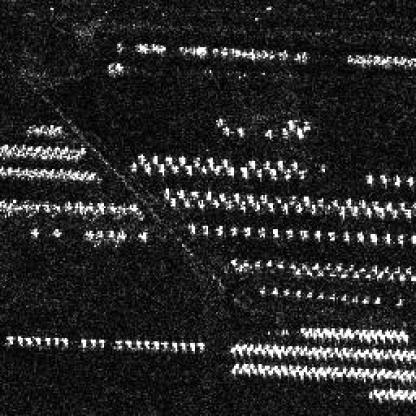airplane: (239, 198, 249, 212), (203, 187, 215, 198), (392, 174, 402, 187), (281, 200, 291, 211), (184, 197, 194, 208), (292, 127, 302, 138), (162, 186, 171, 198), (395, 232, 403, 245), (270, 226, 280, 236), (401, 208, 411, 218), (196, 198, 206, 208), (176, 188, 186, 198), (404, 176, 414, 186), (262, 159, 272, 169), (143, 162, 153, 172), (213, 115, 223, 125), (257, 224, 265, 236), (242, 224, 250, 236), (310, 201, 318, 213), (302, 193, 310, 205), (382, 231, 390, 242), (214, 223, 222, 234), (200, 223, 208, 234), (187, 221, 195, 232), (247, 192, 255, 203), (169, 195, 177, 206), (366, 174, 374, 185), (206, 156, 214, 167), (300, 119, 308, 130), (284, 117, 292, 128), (264, 127, 272, 138), (255, 198, 262, 210), (233, 190, 240, 202), (29, 228, 41, 235), (32, 336, 42, 344), (80, 336, 88, 346), (143, 338, 151, 348), (161, 340, 171, 348), (229, 258, 239, 266), (356, 229, 364, 239), (343, 229, 351, 239), (326, 229, 334, 239), (229, 224, 237, 234), (370, 200, 378, 210), (296, 202, 304, 212), (290, 193, 298, 203), (266, 200, 274, 210), (224, 198, 232, 208), (218, 190, 226, 200), (247, 160, 257, 168), (239, 166, 247, 176), (226, 166, 236, 174), (211, 166, 221, 174), (184, 164, 192, 174), (177, 154, 185, 164), (156, 164, 166, 172), (221, 124, 229, 134), (115, 229, 125, 237), (136, 229, 146, 237), (44, 335, 52, 344), (52, 335, 60, 344), (188, 342, 197, 350), (368, 231, 376, 240), (260, 193, 268, 202), (268, 167, 276, 176), (255, 167, 263, 176), (52, 228, 60, 237), (24, 336, 31, 346), (89, 336, 96, 346), (172, 340, 179, 350), (372, 297, 382, 304), (297, 228, 307, 235), (385, 202, 392, 212), (297, 169, 304, 179), (169, 164, 179, 171), (151, 154, 158, 164), (236, 127, 242, 138), (5, 335, 13, 343), (96, 338, 104, 346), (125, 338, 133, 346), (196, 340, 204, 348), (258, 286, 266, 294), (270, 286, 278, 294), (281, 288, 289, 296), (351, 294, 359, 302), (276, 260, 284, 268), (396, 202, 404, 210), (358, 200, 366, 208), (274, 195, 282, 203), (276, 160, 284, 168), (164, 156, 172, 164), (280, 127, 288, 135), (84, 229, 92, 237), (94, 231, 102, 239), (106, 229, 114, 237), (405, 265, 411, 275), (240, 262, 250, 268), (390, 208, 396, 218), (377, 206, 383, 216), (364, 206, 370, 216), (345, 198, 351, 208), (379, 174, 385, 184), (130, 161, 136, 171), (297, 369, 304, 377), (388, 372, 396, 379), (398, 393, 406, 400), (354, 346, 361, 354), (302, 330, 309, 338), (16, 335, 23, 343), (115, 338, 122, 346), (180, 340, 187, 348), (294, 290, 301, 298), (340, 294, 348, 301), (387, 271, 395, 278), (333, 263, 341, 270), (292, 268, 300, 275), (314, 228, 322, 235), (284, 228, 292, 235), (212, 198, 219, 206), (190, 190, 198, 197), (290, 159, 298, 166), (193, 156, 200, 164), (138, 154, 145, 162), (62, 335, 68, 344), (294, 362, 301, 369), (385, 367, 392, 374), (393, 367, 400, 374), (320, 349, 327, 356), (401, 349, 408, 356), (346, 263, 353, 270), (231, 368, 237, 376), (234, 361, 240, 369), (240, 361, 246, 369), (326, 366, 332, 374), (370, 368, 376, 376), (378, 388, 386, 394), (236, 346, 242, 354), (300, 343, 306, 351), (358, 350, 364, 358), (135, 338, 143, 344), (153, 340, 159, 348), (306, 291, 314, 297), (317, 293, 325, 299), (328, 293, 336, 299), (396, 273, 404, 279), (394, 265, 402, 271), (382, 265, 388, 273), (358, 266, 366, 272), (317, 270, 325, 276), (312, 262, 320, 268), (304, 270, 312, 276), (301, 262, 307, 270), (265, 260, 271, 268), (254, 262, 262, 268), (351, 205, 357, 213), (338, 208, 344, 216), (330, 200, 338, 206), (283, 171, 291, 177), (221, 158, 227, 166), (267, 367, 273, 374), (281, 369, 288, 375), (359, 370, 366, 376), (379, 367, 385, 374), (382, 372, 388, 379), (397, 372, 403, 379), (400, 367, 406, 374), (408, 367, 414, 374), (388, 388, 394, 395), (392, 393, 398, 400), (229, 345, 236, 351), (242, 348, 249, 354), (248, 341, 254, 348), (312, 349, 318, 356), (336, 349, 342, 356), (340, 346, 346, 353), (351, 349, 357, 356), (362, 346, 368, 353), (377, 346, 383, 353), (341, 332, 348, 338), (360, 328, 366, 335), (371, 333, 377, 340), (379, 333, 385, 340), (361, 297, 367, 304), (395, 297, 401, 304), (325, 263, 331, 270), (250, 366, 255, 374), (291, 368, 296, 376), (403, 388, 408, 396), (333, 344, 338, 352), (367, 350, 372, 358), (307, 326, 312, 334), (330, 326, 335, 334), (338, 325, 343, 333), (403, 333, 408, 341), (377, 272, 382, 280), (340, 272, 350, 276), (288, 263, 296, 268), (258, 366, 264, 372), (275, 369, 281, 375), (309, 366, 315, 372), (317, 366, 323, 372), (336, 369, 342, 375), (340, 366, 346, 372), (344, 369, 350, 375), (397, 388, 403, 394), (252, 348, 258, 354), (273, 348, 279, 354), (278, 345, 284, 351), (282, 348, 288, 354), (286, 344, 292, 350), (293, 343, 299, 349), (310, 344, 316, 350), (317, 345, 323, 351), (343, 351, 349, 357), (397, 353, 403, 359), (404, 353, 410, 359), (310, 332, 316, 338), (322, 327, 328, 333), (326, 332, 332, 338), (345, 327, 351, 333), (371, 267, 377, 273), (236, 265, 242, 271), (271, 364, 278, 369), (408, 393, 413, 400), (232, 341, 239, 346), (255, 341, 260, 348), (263, 341, 268, 348), (354, 328, 359, 335), (369, 328, 374, 335), (398, 330, 405, 335), (306, 369, 310, 377), (322, 370, 326, 378), (358, 332, 362, 340), (328, 272, 336, 276), (202, 164, 206, 172), (244, 366, 249, 372), (302, 364, 307, 370), (312, 371, 317, 377), (333, 366, 338, 372), (330, 371, 335, 377), (362, 367, 368, 372), (374, 372, 380, 377), (367, 392, 372, 398), (372, 388, 377, 394), (374, 351, 380, 356), (390, 352, 395, 358), (299, 326, 304, 332), (315, 327, 320, 333), (388, 333, 394, 338), (364, 273, 370, 278), (353, 273, 359, 278), (288, 362, 292, 369), (406, 374, 413, 378), (372, 346, 376, 353), (410, 349, 414, 356), (265, 364, 270, 369), (356, 367, 361, 372), (367, 372, 372, 377), (325, 346, 330, 351), (328, 351, 333, 356), (377, 328, 382, 333), (385, 328, 390, 333), (395, 333, 400, 338), (248, 361, 252, 367), (348, 366, 352, 372), (352, 371, 356, 377), (376, 392, 380, 398), (266, 348, 272, 352), (272, 343, 276, 349), (304, 350, 310, 354), (384, 351, 388, 357), (386, 348, 392, 352), (318, 332, 324, 336), (350, 332, 354, 338), (410, 275, 414, 281), (257, 362, 260, 369), (291, 349, 294, 356), (280, 364, 284, 369), (385, 392, 390, 396), (240, 343, 244, 348), (348, 346, 352, 351), (395, 348, 400, 352), (392, 330, 396, 335), (237, 366, 240, 372), (260, 348, 263, 354), (335, 332, 338, 338), (298, 350, 302, 354), (366, 333, 368, 340)
